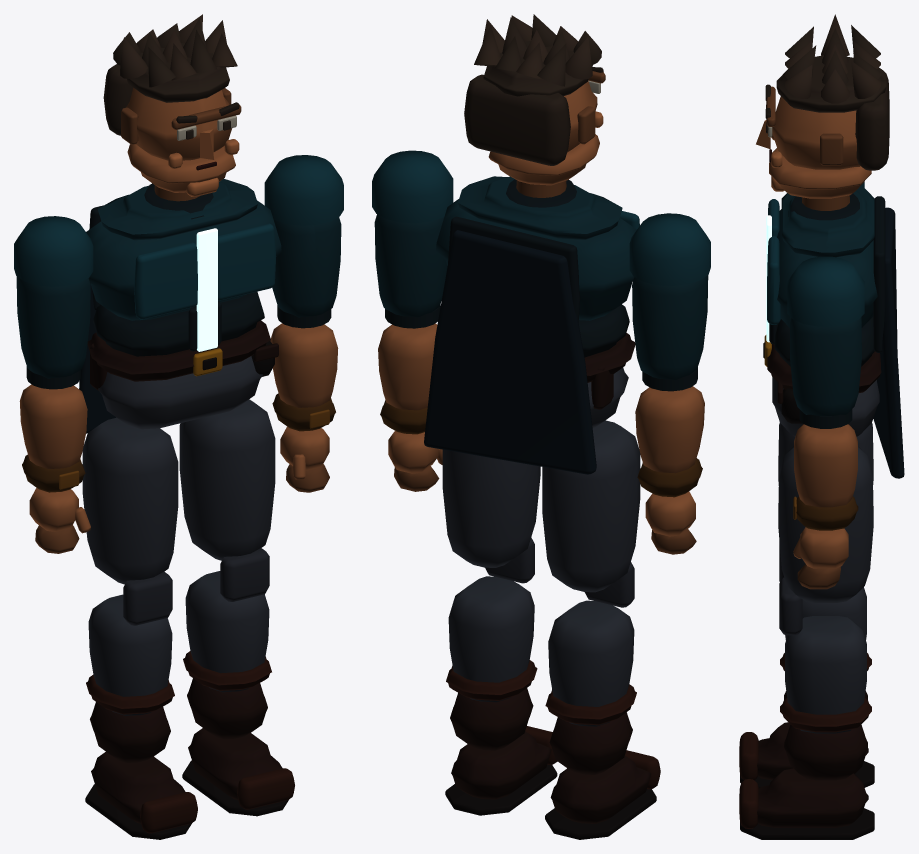
The model's file is LaminaArcanaBase.fbx.
3 views of the same model, side by side, from view 1: azimuth 30°, elevation 25°; view 2: azimuth 150°, elevation 25°; view 3: azimuth 270°, elevation 25° (orthographic). The views are drawn at different scales.
Visible parts, largest first — view 1: Body, LegR, LegL, ArmR, ArmL, Head; view 2: Body, LegR, LegL, ArmR, ArmL, Head; view 3: LegL, ArmL, Body, Head, LegR.
Boxes of the visible parts, x1=… form: Body: x1=79, y1=178, x2=281, y2=433; LegR: x1=82, y1=417, x2=197, y2=839; LegL: x1=179, y1=399, x2=294, y2=816; ArmR: x1=14, y1=216, x2=93, y2=553; ArmL: x1=264, y1=155, x2=343, y2=492; Head: x1=103, y1=14, x2=241, y2=201; Body: x1=424, y1=176, x2=639, y2=474; LegR: x1=542, y1=420, x2=660, y2=839; LegL: x1=442, y1=449, x2=557, y2=815; ArmR: x1=629, y1=213, x2=710, y2=554; ArmL: x1=372, y1=150, x2=453, y2=491; Head: x1=464, y1=14, x2=605, y2=197; LegL: x1=739, y1=446, x2=874, y2=839; ArmL: x1=787, y1=256, x2=864, y2=589; Body: x1=763, y1=186, x2=904, y2=478; Head: x1=756, y1=14, x2=889, y2=210; LegR: x1=739, y1=423, x2=874, y2=787.
Size of the model in its own units: 0.7867 by 1.81 by 0.3549.
